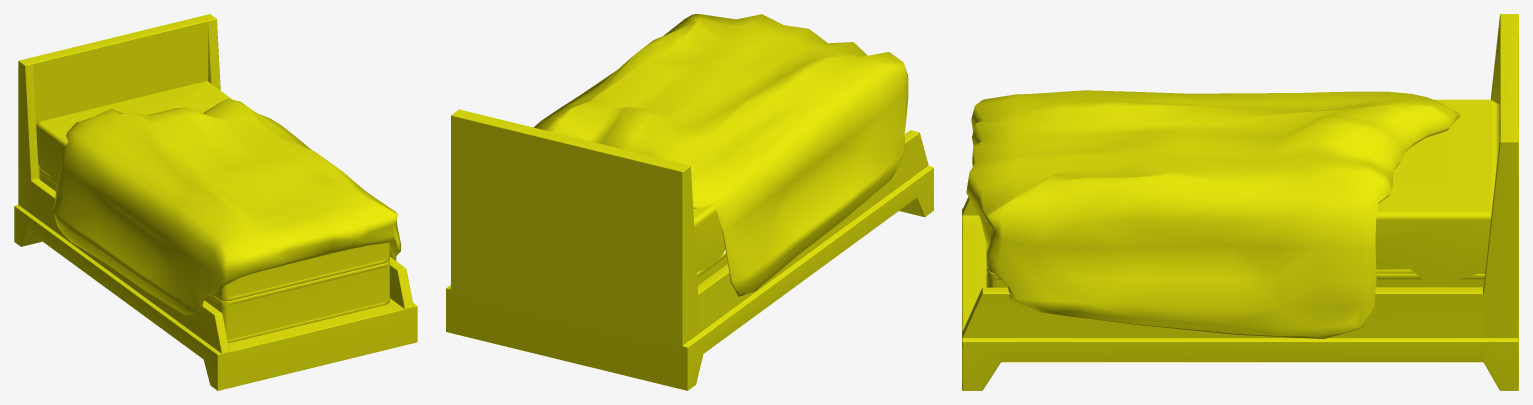
File: Cell1Bed.fbx
3 renders of one model, left to right at view 1: azimuth 30°, elevation 25°; view 2: azimuth 150°, elevation 25°; view 3: azimuth 270°, elevation 25°, orthographic. The views are drawn at different scales.
Parts seen in each view (by area): view 1: Cell1Bed; view 2: Cell1Bed; view 3: Cell1Bed.
Part boxes in pixels (bbox=[...]): Cell1Bed: bbox=[14, 14, 417, 390]; Cell1Bed: bbox=[446, 14, 933, 390]; Cell1Bed: bbox=[962, 14, 1518, 390].
Size of the model in its own units: 133 by 107 by 219.
